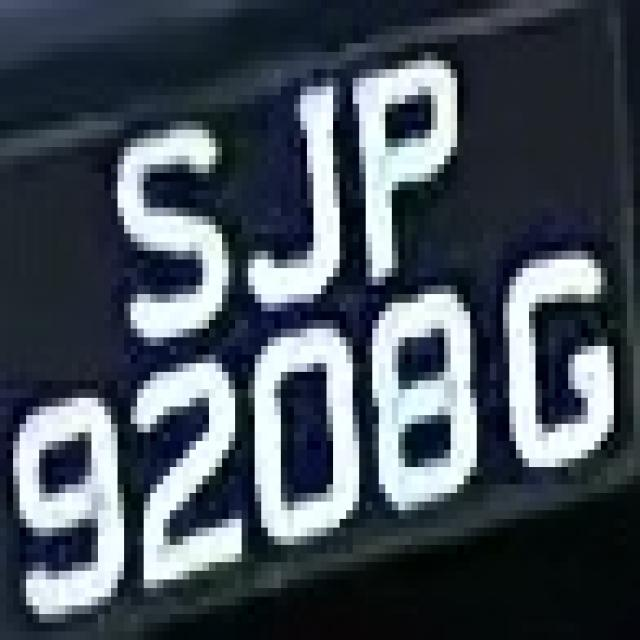0: (242, 268, 366, 588)
2: (124, 354, 261, 606)
8: (340, 276, 490, 528)
9: (6, 363, 130, 614)
G: (484, 233, 620, 484)
J: (209, 35, 346, 320)
P: (353, 35, 470, 276)
S: (91, 95, 222, 355)
